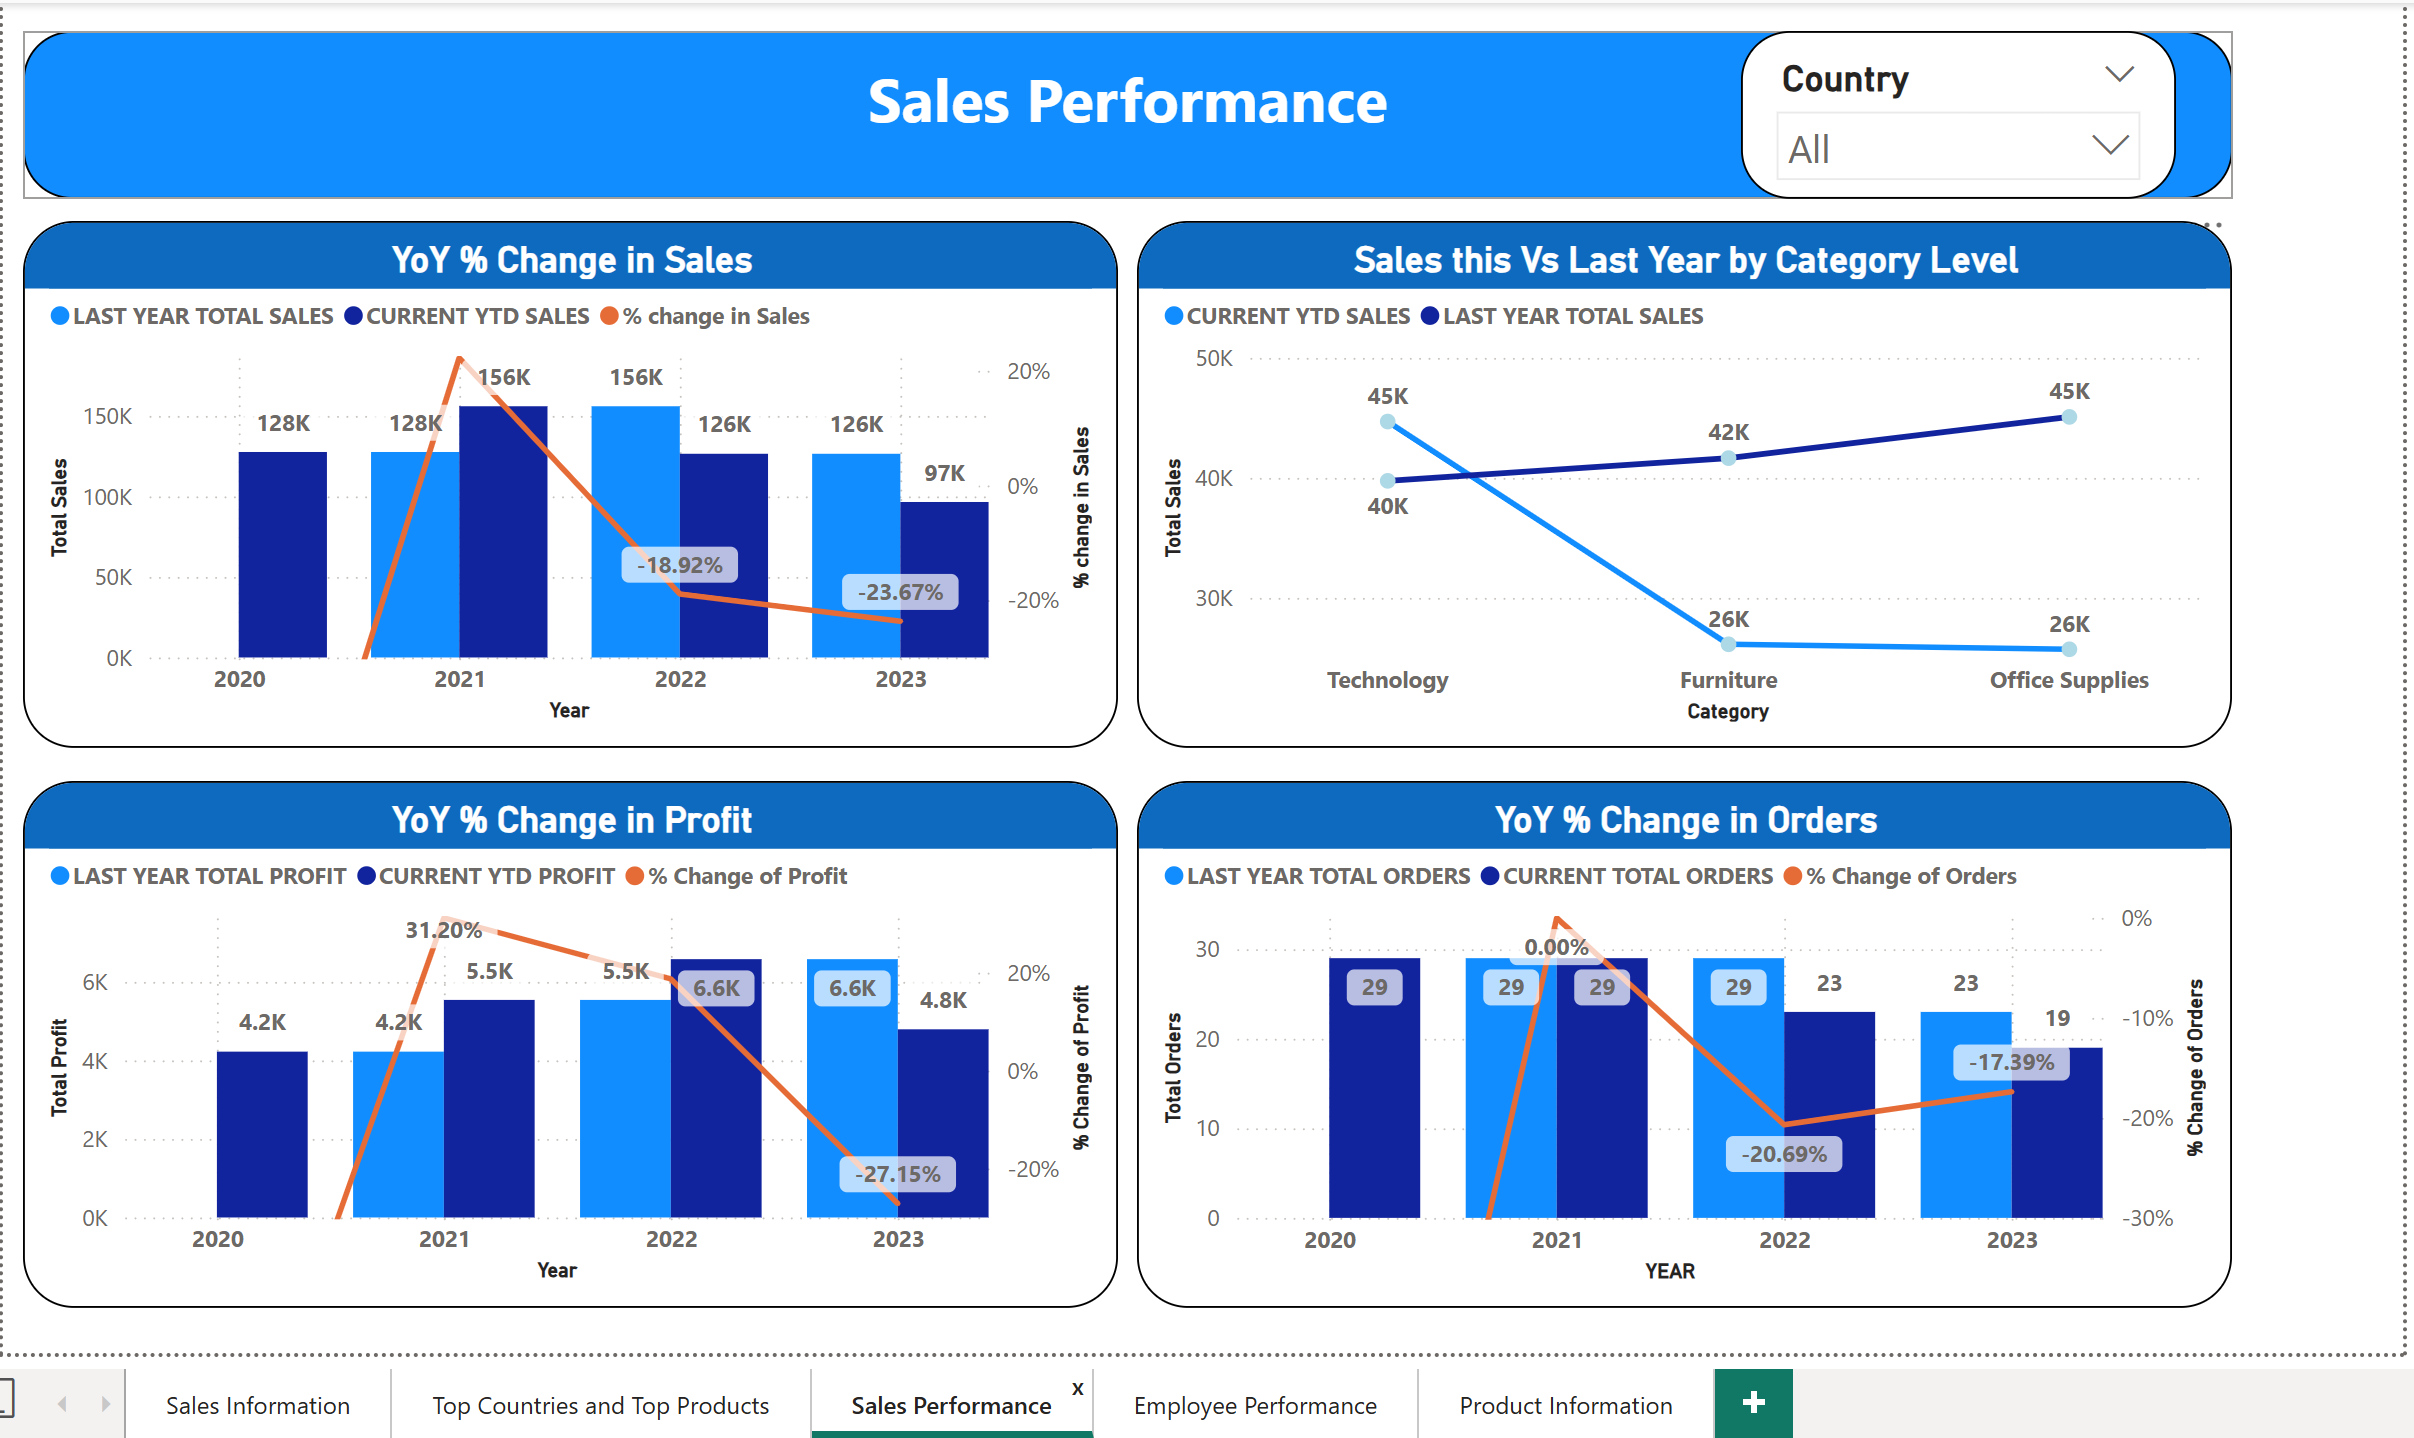

The dashboard page shown, as its layout file describes it:
{"tool":"powerbi","page":{"name":"Sales Performance","canvas":[1280,720],"ordinal":2},"visuals":[{"type":"textbox","box":[10.5,14.5,1178.5,89.6],"z":0},{"type":"lineClusteredColumnComboChart","title":"YoY % Change in Sales","fields":{"Category":["Date.YEAR"],"Y":["Sales Information.LAST YEAR TOTAL SALES","Sales Information.CURRENT YTD SALES"],"Y2":["Sales Information.% change in Sales"]},"box":[10.5,116,584,280.8],"z":1000},{"type":"lineClusteredColumnComboChart","title":"YoY % Change in Profit","fields":{"Category":["Date.YEAR"],"Y":["Sales Information.LAST YEAR TOTAL PROFIT","Sales Information.CURRENT YTD PROFIT"],"Y2":["Sales Information.% Change of Profit"]},"box":[10.5,415.2,584,280.8],"z":2000},{"type":"lineChart","title":"Sales this Vs Last Year by Category Level","fields":{"Category":["Product Information.Category"],"Y":["Sales Information.CURRENT YTD SALES","Sales Information.LAST YEAR TOTAL SALES"]},"box":[605,116,584,281],"z":3000},{"type":"slicer","fields":{"Values":["Sales Information.Country"]},"box":[926.7,14.5,232,89.6],"z":4000},{"type":"lineClusteredColumnComboChart","title":"YoY % Change in Orders","fields":{"Category":["Date.YEAR"],"Y":["Sales Information.LAST YEAR TOTAL ORDERS","Sales Information.CURRENT TOTAL ORDERS"],"Y2":["Sales Information.% Change of Orders"]},"box":[605,415,584,281],"z":5000}]}

Visuals, with their boxes in screenshot pixels (x1, y1, x2, y2):
textbox: left=26, top=27, right=2218, bottom=194
"YoY % Change in Sales" lineClusteredColumnComboChart: left=26, top=216, right=1112, bottom=738
"YoY % Change in Profit" lineClusteredColumnComboChart: left=26, top=772, right=1112, bottom=1294
"Sales this Vs Last Year by Category Level" lineChart: left=1132, top=216, right=2218, bottom=738
slicer - Sales Information.Country: left=1730, top=27, right=2161, bottom=194
"YoY % Change in Orders" lineClusteredColumnComboChart: left=1132, top=772, right=2218, bottom=1294
